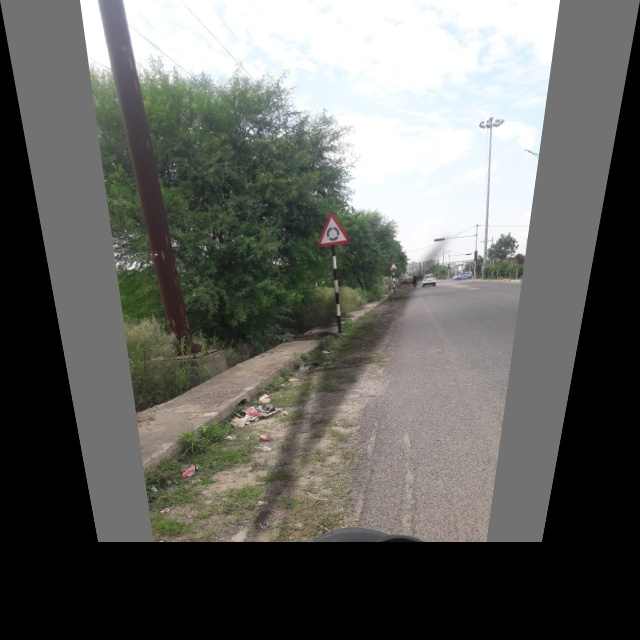Round_About: (312, 205, 358, 247)
